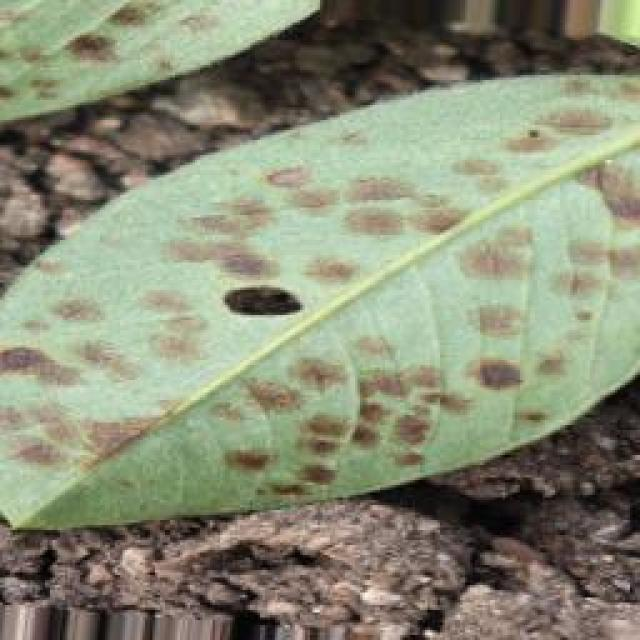Whitefly: (0, 0, 640, 526)
